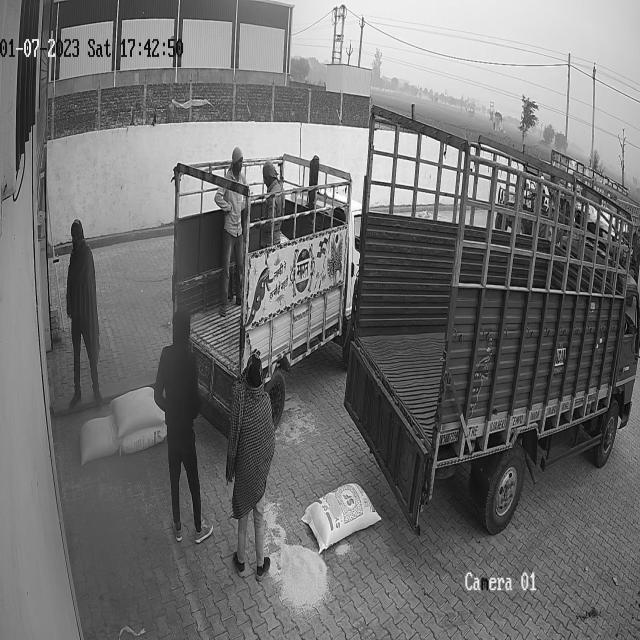sack: (301, 482, 382, 554), (111, 387, 165, 436), (78, 417, 119, 462), (123, 422, 168, 454)
